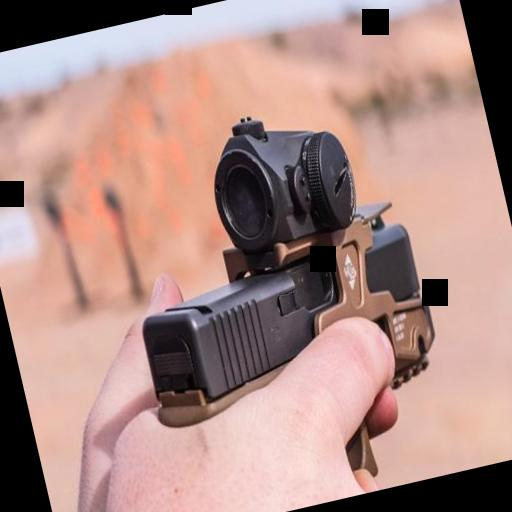Handgun: (110, 210, 461, 486)
